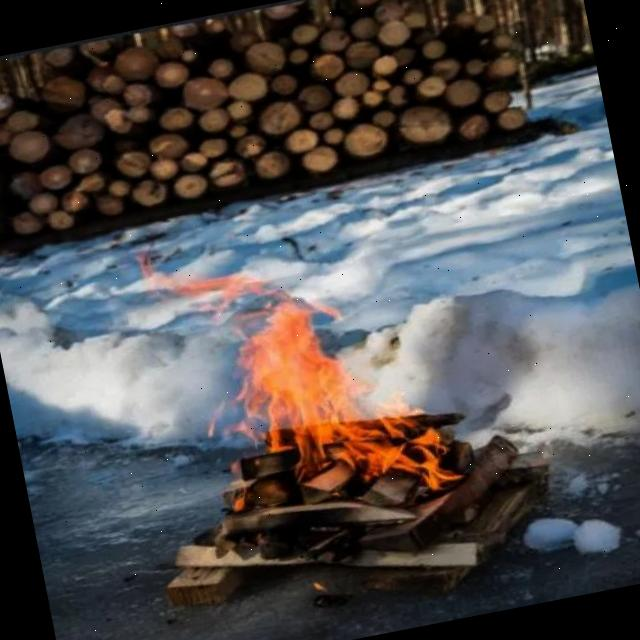fire: (0, 0, 640, 640), (130, 187, 467, 549)
